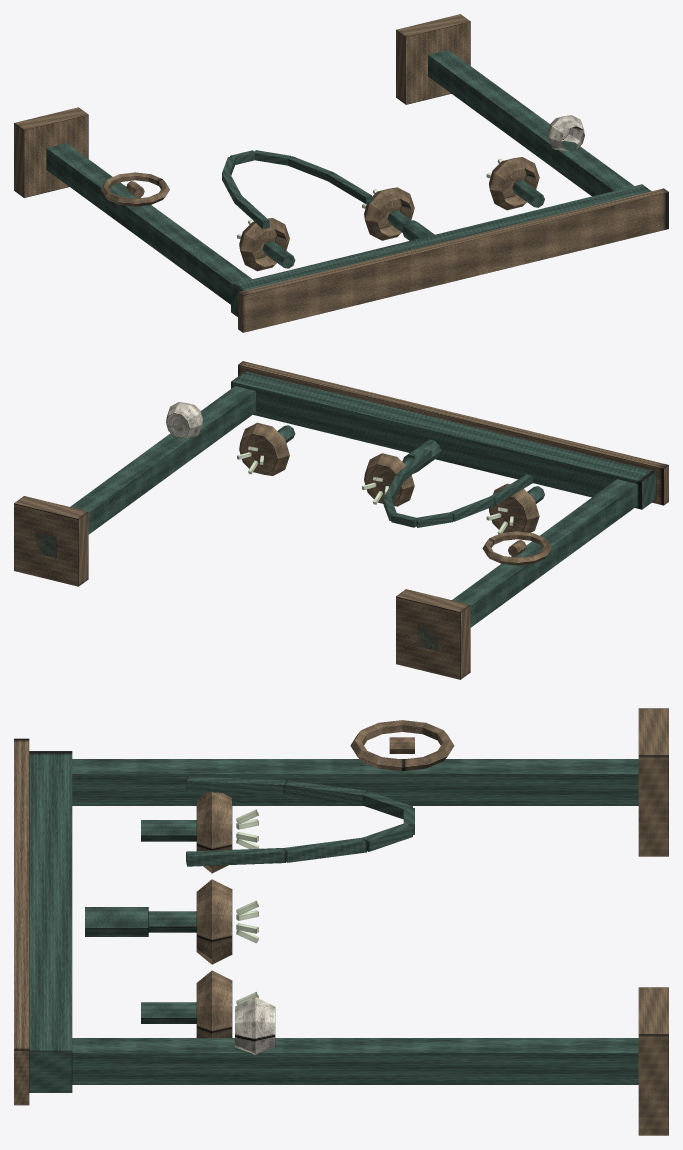
The model's file is boneglass_watering_gantry.obj.
The picture shows the model from 3 angles, top to bottom: view 1: azimuth 30°, elevation 25°; view 2: azimuth 150°, elevation 25°; view 3: azimuth 270°, elevation 25°; orthographic projection. The views are drawn at different scales.
Parts seen in each view (by area): view 1: boneglass_watering_gantry; view 2: boneglass_watering_gantry; view 3: boneglass_watering_gantry.
Boxes of the visible parts, box(x1,y1,x2,y2) form: boneglass_watering_gantry: box(14, 14, 668, 332); boneglass_watering_gantry: box(14, 361, 668, 679); boneglass_watering_gantry: box(14, 708, 668, 1135).
Size of the model in its own units: 3.04 by 0.4841 by 2.58.
Materials: 4 (4 with a texture image).
